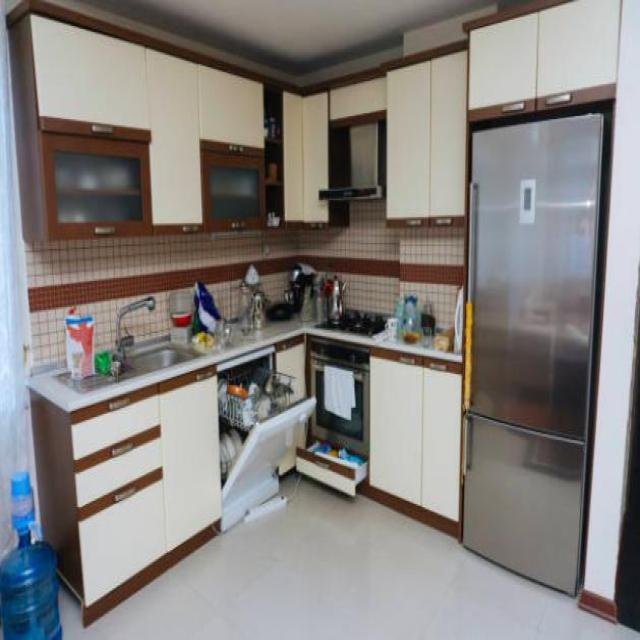dishwasher: (217, 344, 314, 530)
